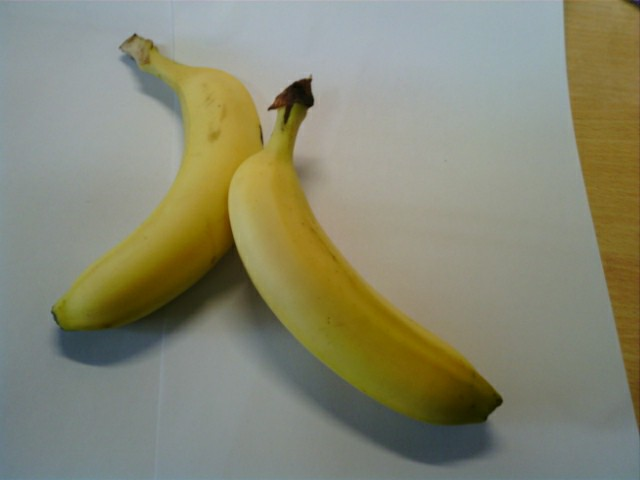fresh_banana: (229, 140, 502, 429), (48, 55, 265, 331)
